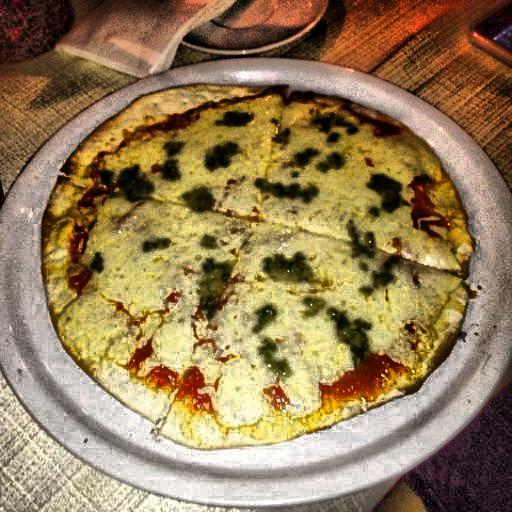pizza: (56, 70, 467, 469)
